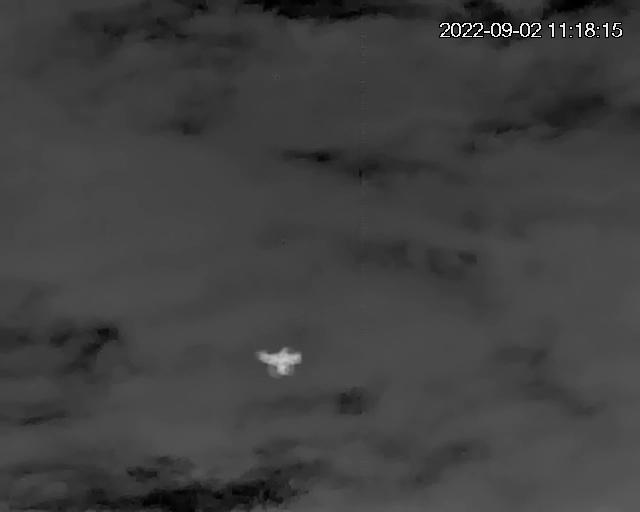DJI-Phantom: (257, 344, 309, 379)
